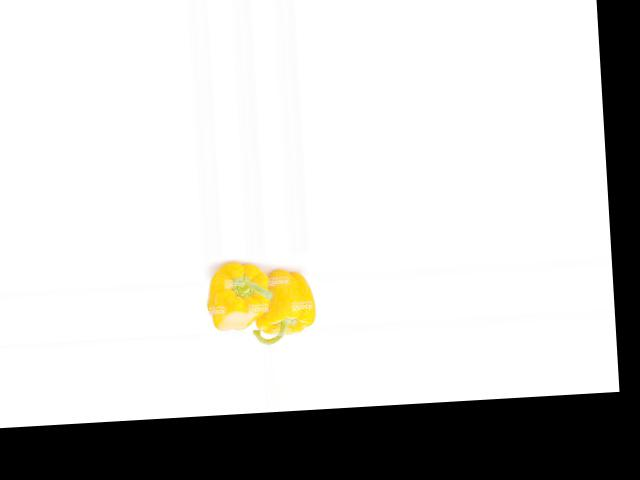bell_pepper: (246, 266, 318, 343)
